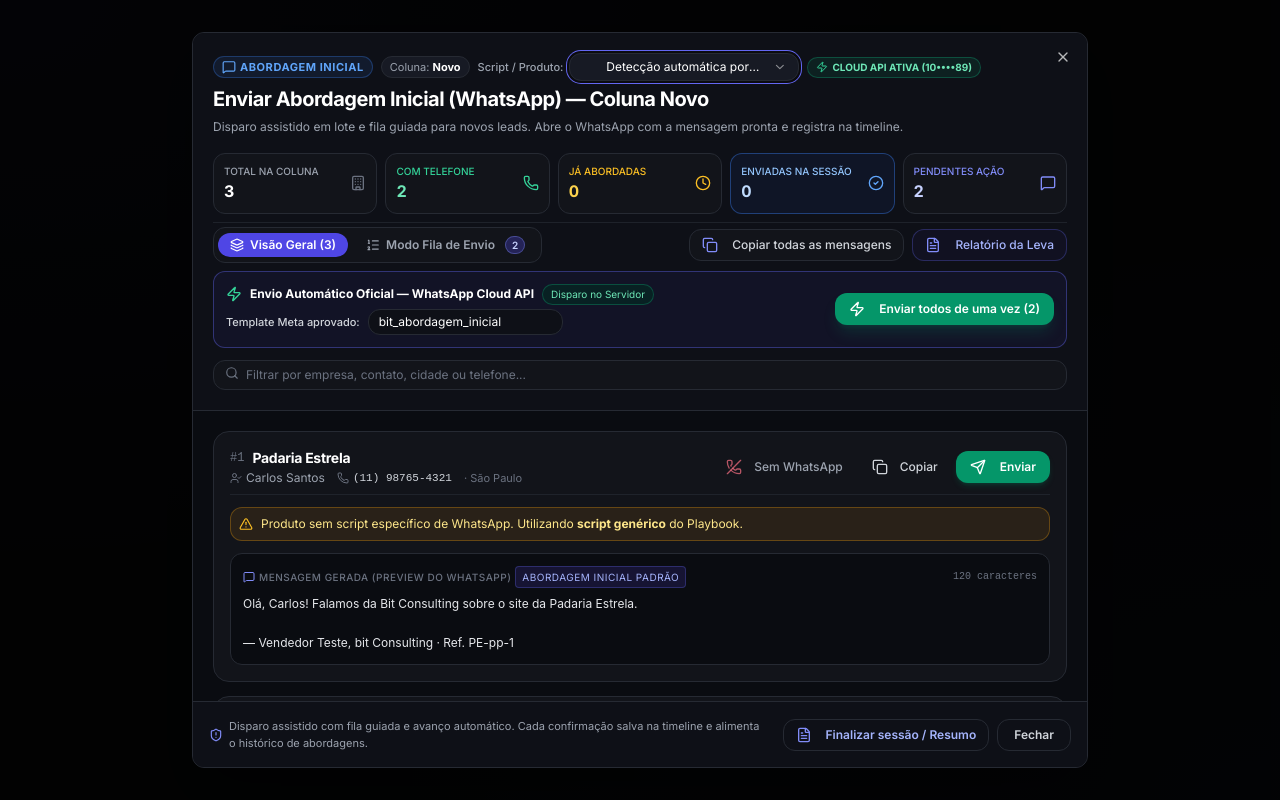
BatchWhatsAppModal — Fila de Envio Assistido, Cópia Agrupada e Relatório da Leva (Fase 1 e Fase 2) › FASE 2: Quando Cloud API está configurada com secrets, exibe painel automático e botão "Enviar todos de uma vez"
expect the element with test id "panel-cloud-api-configured" is shown: met, box [213, 270, 1067, 348]
Dispara o envio automático
Click the button with test id "btn-send-all-auto" at (945, 309), box [835, 293, 1054, 325]
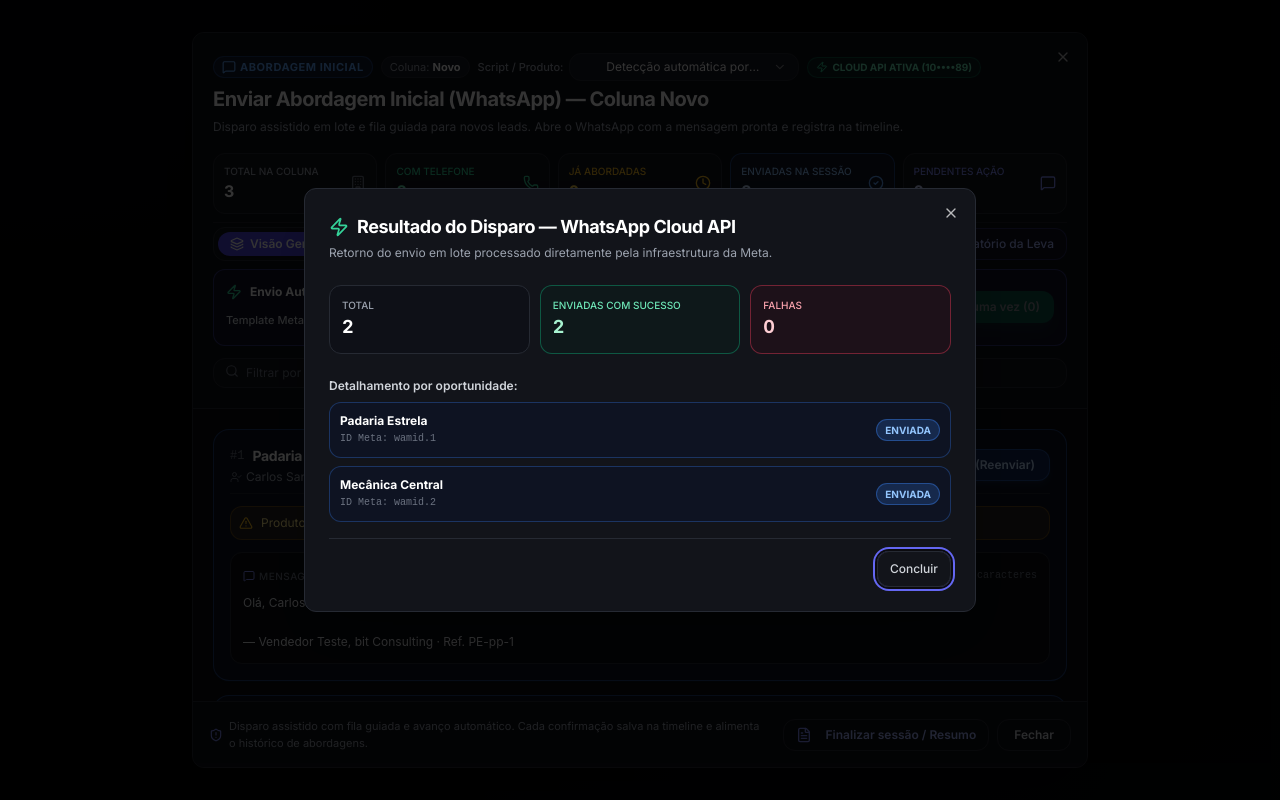
expect the dialog with test id "dialog-auto-batch-result" is shown: met, box [304, 188, 976, 612]
